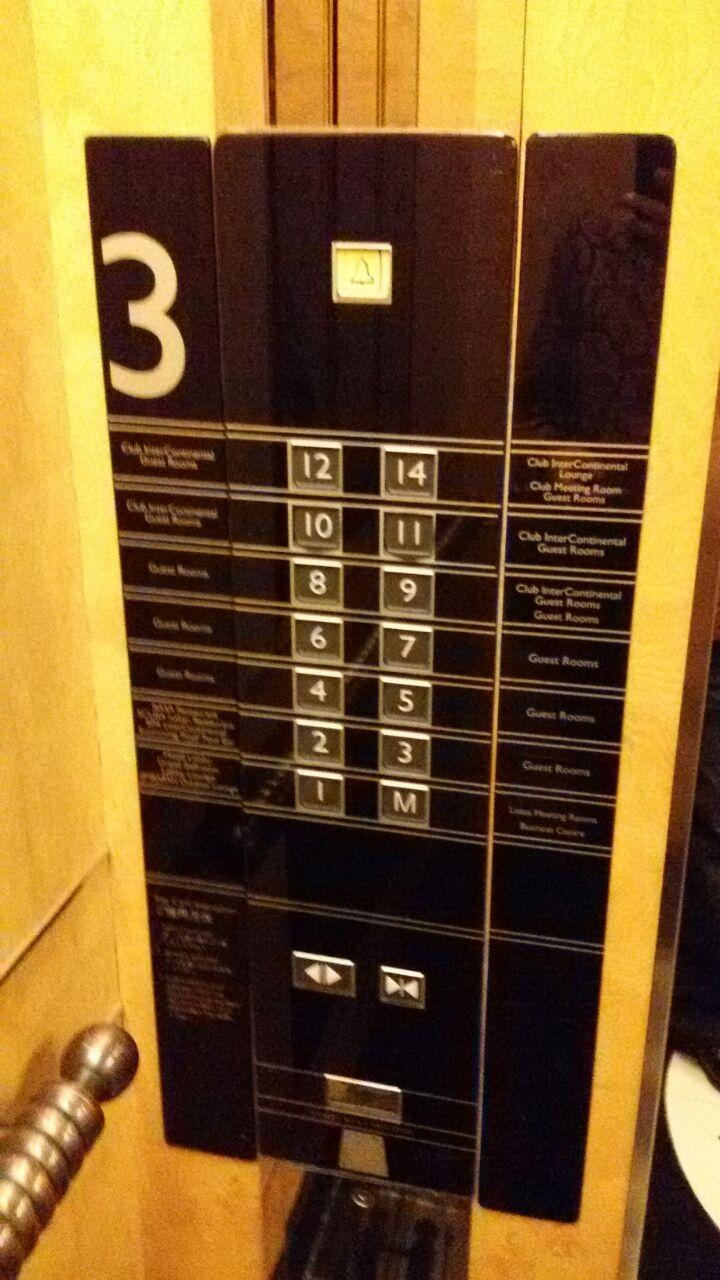1: (293, 765, 346, 818)
10: (286, 496, 344, 558)
11: (379, 505, 437, 565)
12: (286, 439, 343, 495)
14: (378, 443, 439, 503)
2: (292, 716, 346, 769)
3: (375, 726, 432, 781)
4: (291, 664, 345, 720)
5: (376, 675, 433, 730)
6: (289, 613, 346, 665)
7: (377, 618, 435, 675)
8: (289, 556, 346, 607)
9: (378, 563, 435, 620)
M: (377, 776, 432, 831)
alarm: (328, 239, 393, 307)
close: (379, 961, 425, 1012)
led: (508, 133, 678, 449), (84, 139, 224, 426)
open: (290, 949, 356, 1001)
